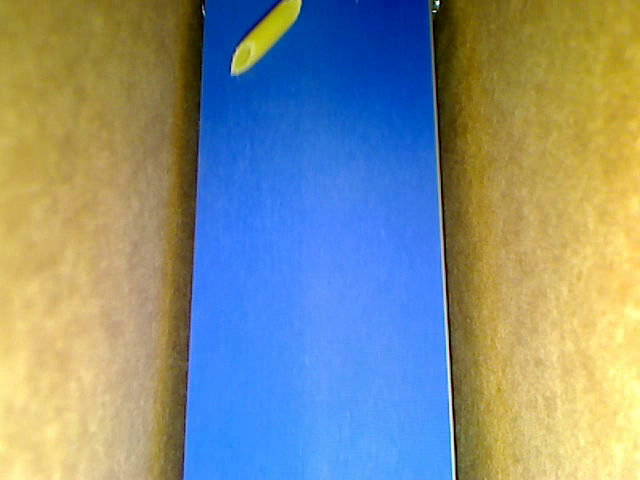penne: (230, 1, 301, 77)
